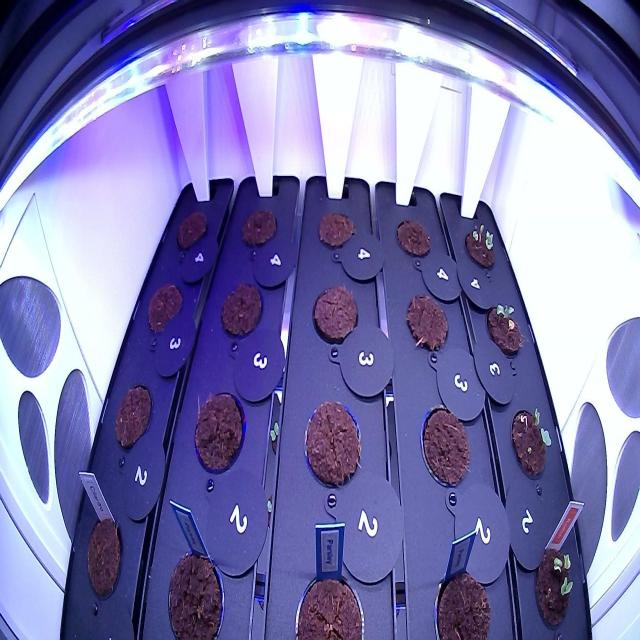germination: (530, 527, 576, 639), (505, 399, 554, 489), (482, 296, 524, 366), (462, 218, 499, 272)
pod: (160, 538, 230, 640), (288, 555, 368, 640), (299, 393, 364, 488), (430, 550, 494, 640), (191, 378, 248, 478), (416, 396, 473, 496), (81, 510, 128, 607), (306, 277, 365, 352), (402, 285, 451, 359), (112, 376, 154, 462), (217, 274, 265, 344), (145, 275, 187, 340), (392, 209, 436, 267), (313, 201, 357, 258), (236, 199, 279, 254), (172, 206, 212, 256)
